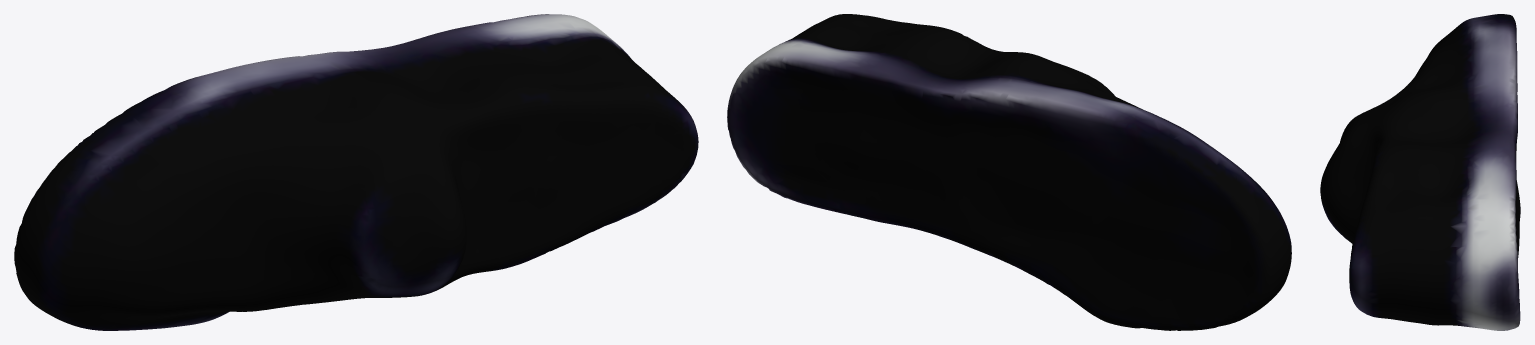
Rendered from shoe.glb.
The picture shows the model from 3 angles, left to right: view 1: azimuth 30°, elevation 25°; view 2: azimuth 150°, elevation 25°; view 3: azimuth 270°, elevation 25°; orthographic projection. The views are drawn at different scales.
Bounding box in the file's own units: 0.9996 × 0.3667 × 0.3388.
